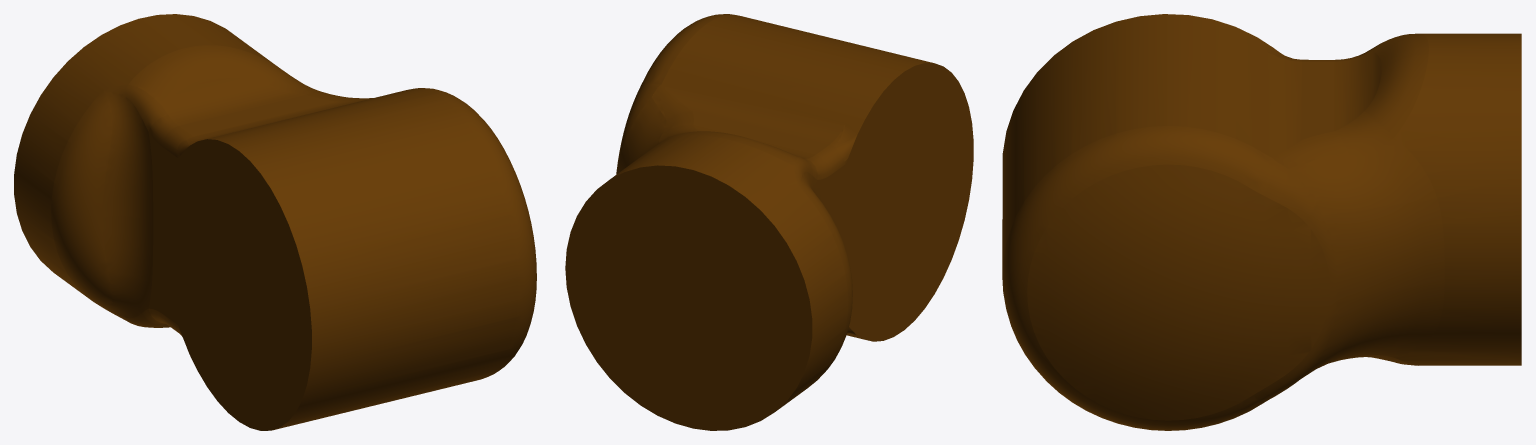
The model's file is inline_link_housing.obj.
3 renders of one model, left to right at view 1: azimuth 30°, elevation 25°; view 2: azimuth 150°, elevation 25°; view 3: azimuth 270°, elevation 25°, orthographic. The views are drawn at different scales.
Visible parts, largest first — view 1: mesh_1_inline_link_.001; view 2: mesh_1_inline_link_.001; view 3: mesh_1_inline_link_.001.
Part boxes in pixels (x1=…): mesh_1_inline_link_.001: x1=14, y1=14, x2=536, y2=430; mesh_1_inline_link_.001: x1=565, y1=14, x2=973, y2=430; mesh_1_inline_link_.001: x1=1002, y1=14, x2=1521, y2=430.
Size of the model in its own units: 0.1 by 0.08 by 0.125.
